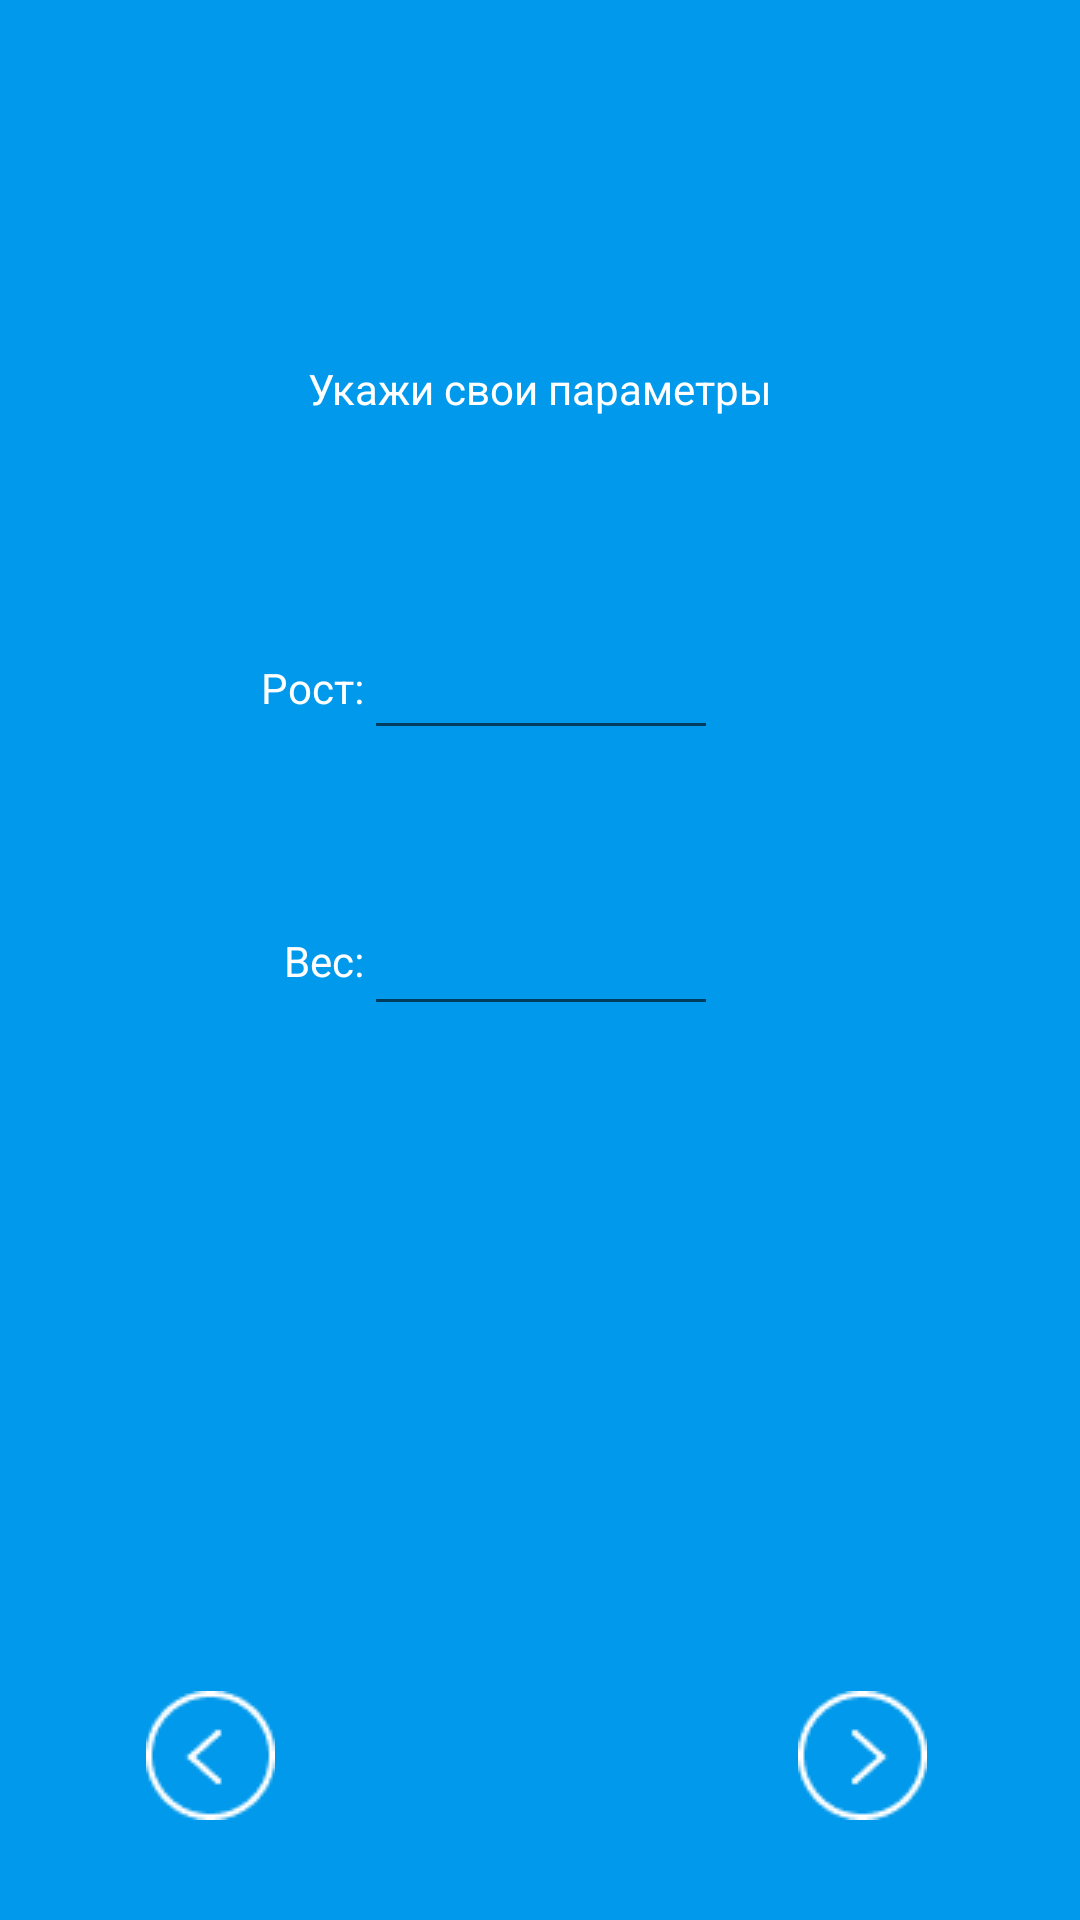

Icons on this 1080x1920 Android screen, each with its box as region(x1, y1, x2, y2):
back: region(146, 1691, 275, 1820)
forward: region(798, 1691, 927, 1820)
